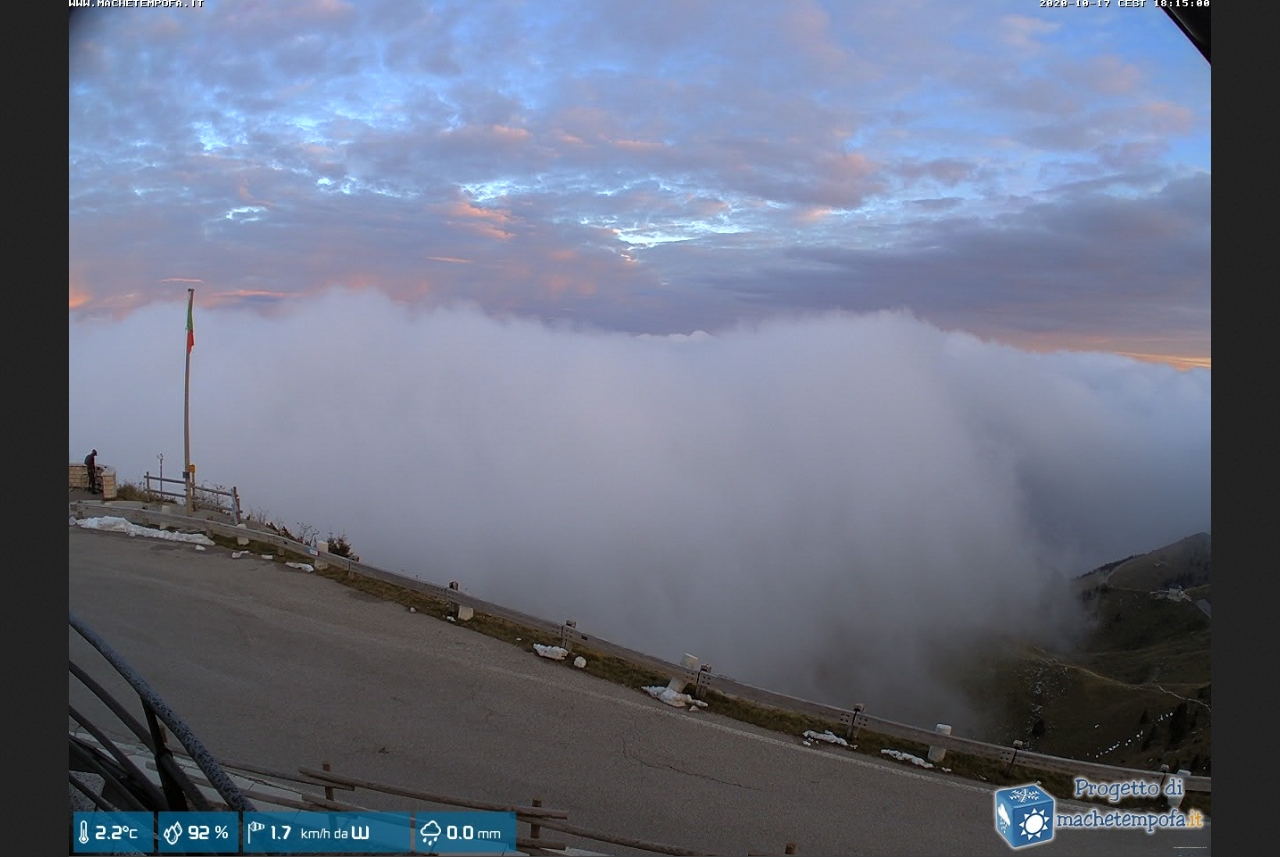no: (185, 294, 198, 355)
